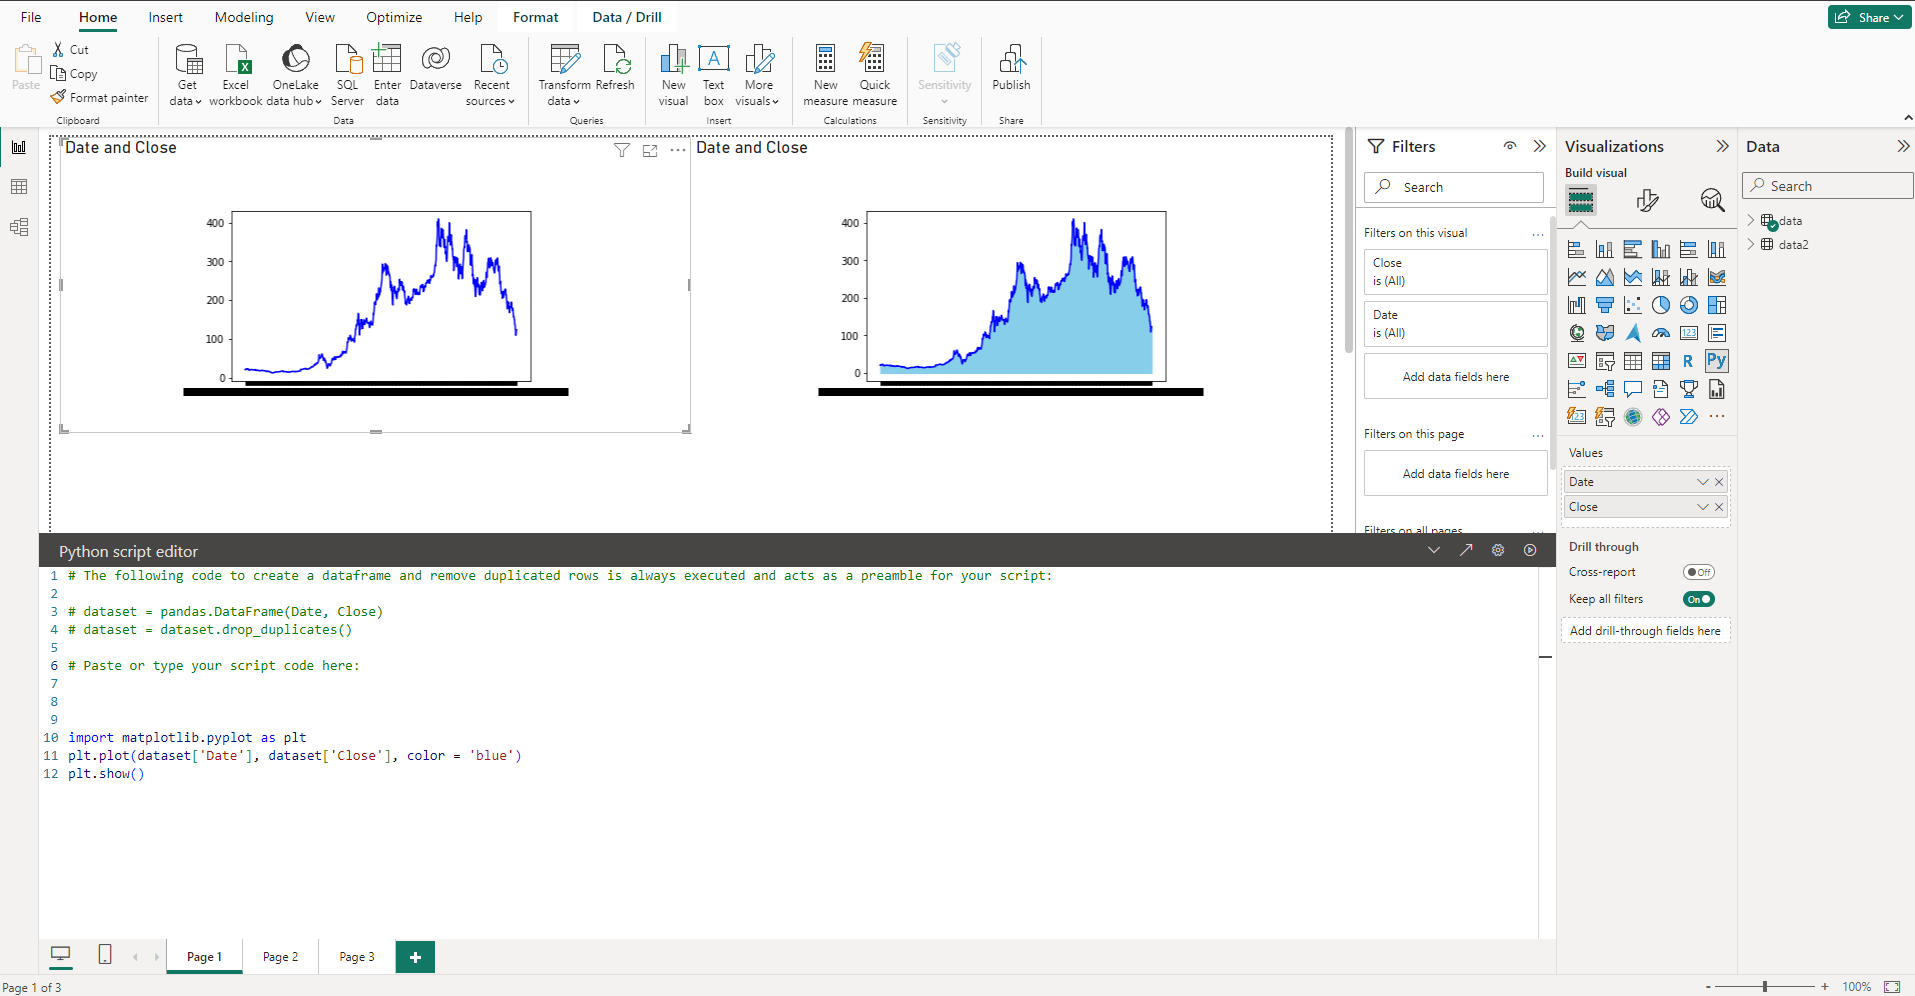

Layout of this report page (visuals, bound fields, positions):
{"tool":"powerbi","page":{"name":"Page 1","canvas":[1280,720],"ordinal":0},"visuals":[{"type":"pythonVisual","fields":{"Values":["data.Date","data.Close"]},"box":[9,0,631,296],"z":0},{"type":"pythonVisual","fields":{"Values":["data.Date","data.Close"]},"box":[640,0,640,296],"z":1000}]}

Visuals, with their boxes on the page's 1280x720 design canvas (x1, y1, x2, y2). These are canvas units, not pixel positions in the 1915x996 screenshot, which may show the page scaled, cropped or inside an application window:
pythonVisual - data.Date x data.Close: 9/0/640/296
pythonVisual - data.Date x data.Close: 640/0/1280/296
